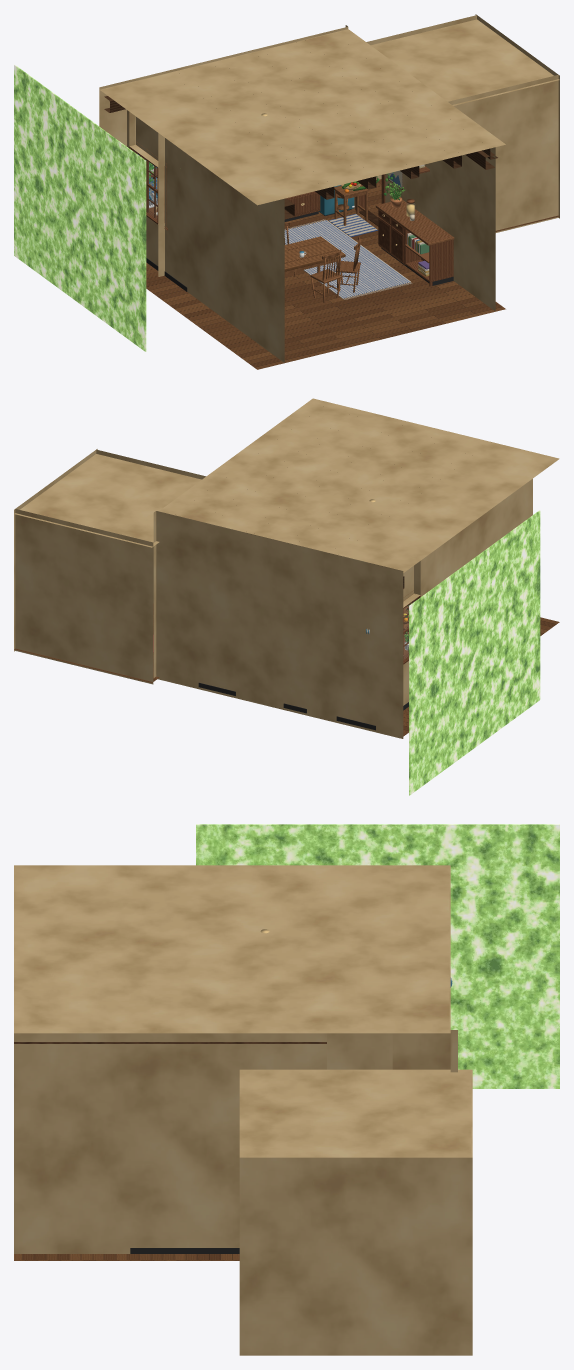
File: kitchen_room_02.glb
3 views of the same model, one above another, from view 1: azimuth 30°, elevation 25°; view 2: azimuth 150°, elevation 25°; view 3: azimuth 270°, elevation 25° (orthographic). The views are drawn at different scales.
Visible parts, largest first — view 1: ENV_Plaster_Wall, ENV_Outdoor_Foliage, ENV_Floor_Planks, ENV_Wood_Cabinet, ENV_Rug_Woven, ENV_Wood_Beam, ENV_Wood_TableTop, ENV_Wood_Counter, Chair_NearLeft, ENV_Wood_Table, ENV_Rug_Small, Chair_Right (+1 smaller); view 2: ENV_Plaster_Wall, ENV_Outdoor_Foliage, ENV_Floor_Planks, ENV_Black_Plastic; view 3: ENV_Plaster_Wall, ENV_Outdoor_Foliage, ENV_Floor_Planks, ENV_Black_Plastic.
Boxes of the visible parts, x1,y1,x2,y2 form: ENV_Plaster_Wall: [99, 14, 559, 362]; ENV_Outdoor_Foliage: [14, 65, 146, 351]; ENV_Floor_Planks: [146, 179, 559, 369]; ENV_Wood_Cabinet: [129, 141, 453, 286]; ENV_Rug_Woven: [284, 220, 410, 298]; ENV_Wood_Beam: [104, 96, 497, 262]; ENV_Wood_TableTop: [284, 236, 345, 290]; ENV_Wood_Counter: [149, 199, 454, 245]; Chair_NearLeft: [310, 250, 341, 302]; ENV_Wood_Table: [334, 184, 369, 225]; ENV_Rug_Small: [328, 214, 378, 236]; Chair_Right: [335, 236, 361, 292]; ENV_Plaster_Wall: [14, 398, 559, 738]; ENV_Outdoor_Foliage: [409, 510, 540, 795]; ENV_Floor_Planks: [14, 603, 559, 736]; ENV_Black_Plastic: [198, 682, 408, 730]; ENV_Plaster_Wall: [14, 865, 472, 1355]; ENV_Outdoor_Foliage: [196, 824, 559, 1088]; ENV_Floor_Planks: [14, 1254, 239, 1260]; ENV_Black_Plastic: [130, 1248, 239, 1253].
Bounding box in the file's own units: 9.44 × 4 × 7.5.
81 materials, 16 textured.
